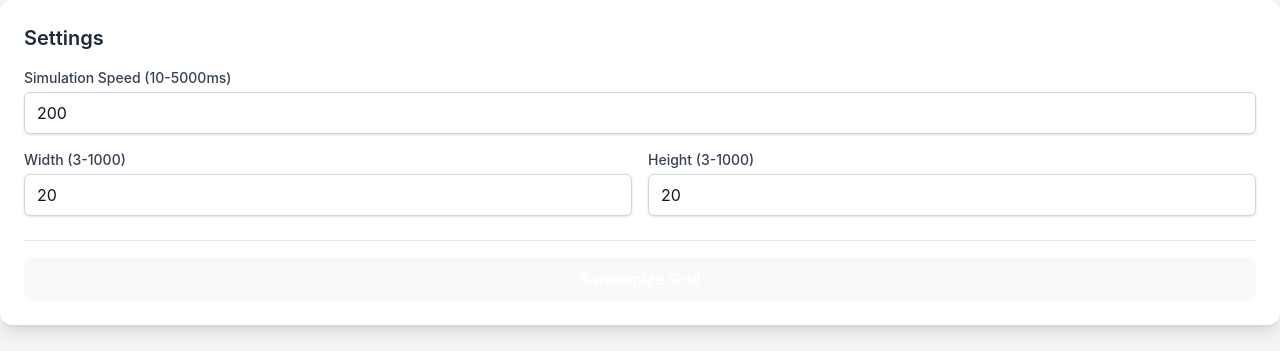
Test: Settings Component › should handle maximum speed value
The image size is (1280, 351).
Replace the text in the number field labelled "Simulation Speed (10-5000ms)" with "6000" at coordinates (640, 113), box [24, 92, 1256, 134]
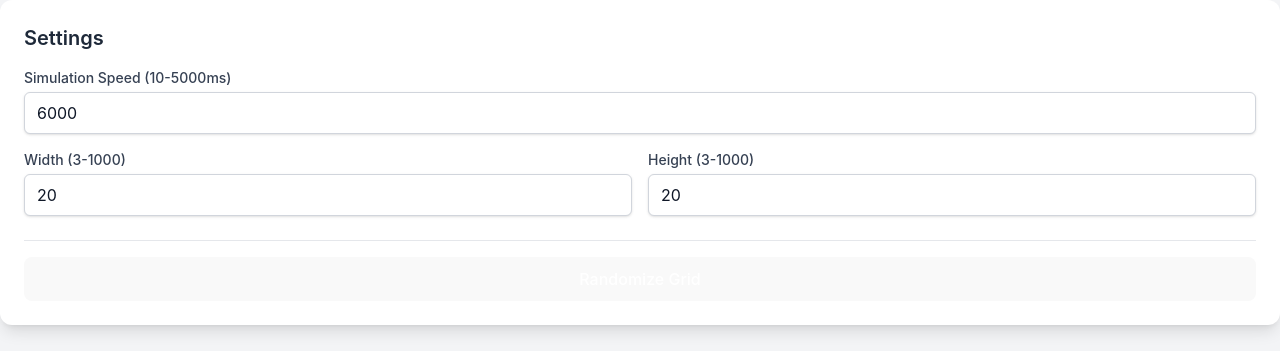
Leave the number field labelled "Simulation Speed (10-5000ms)", box [24, 92, 1256, 134]
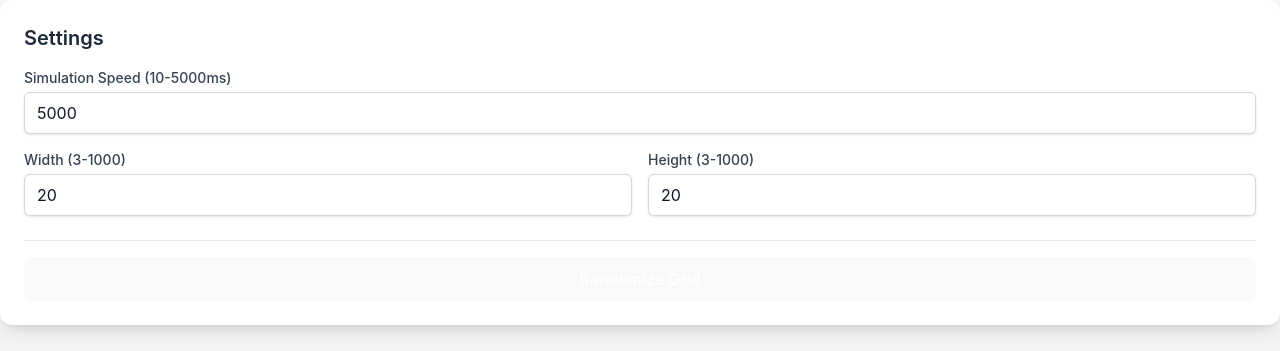
Now the number field labelled "Simulation Speed (10-5000ms)" holds "5000", box [24, 92, 1256, 134]
